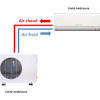ac: (53, 10, 100, 33)
